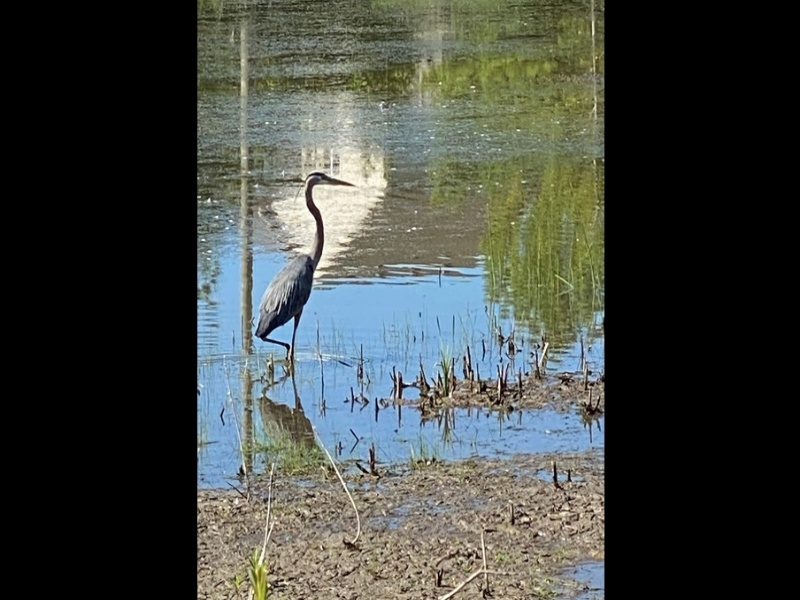heron: (255, 170, 352, 360)
